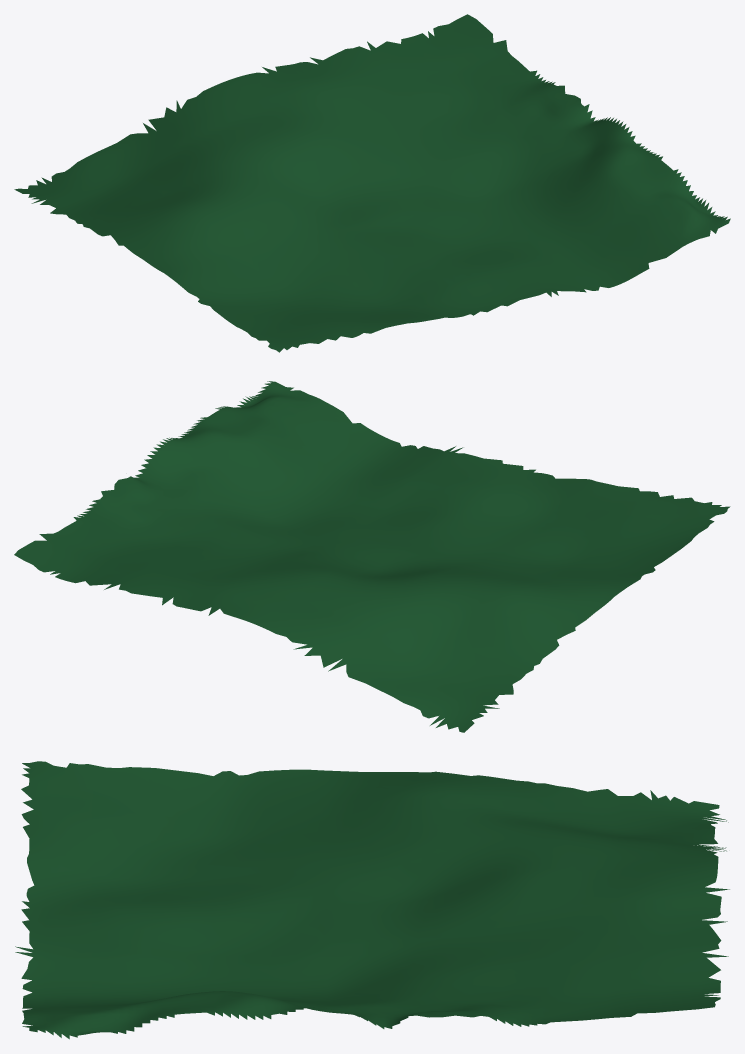
Rendered from payo_land_x2_y3.glb.
3 views of the same model, one above another, from view 1: azimuth 30°, elevation 25°; view 2: azimuth 150°, elevation 25°; view 3: azimuth 270°, elevation 25° (orthographic). The views are drawn at different scales.
Visible parts, largest first — view 1: payo_land_x2_y3; view 2: payo_land_x2_y3; view 3: payo_land_x2_y3.
Boxes of the visible parts, bbox=[...] form: payo_land_x2_y3: bbox=[14, 14, 730, 352]; payo_land_x2_y3: bbox=[14, 381, 730, 732]; payo_land_x2_y3: bbox=[15, 761, 729, 1039].
Bounding box in the file's own units: 264 × 36.86 × 267.
